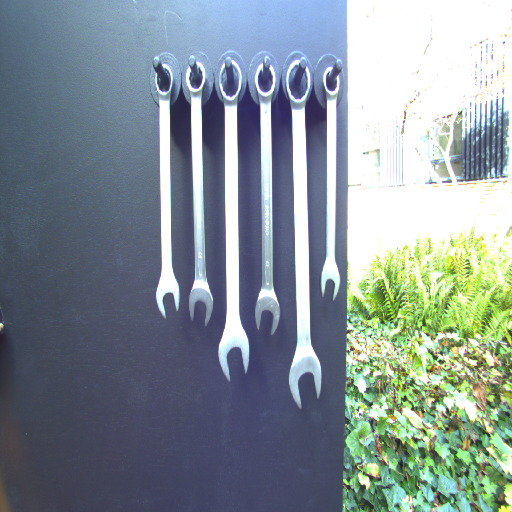bottom: (285, 350, 324, 414), (217, 326, 250, 386), (185, 278, 214, 329), (252, 288, 281, 337), (153, 271, 181, 321), (320, 257, 342, 303)
top: (284, 57, 311, 107), (218, 56, 245, 105), (253, 61, 278, 103), (151, 60, 175, 103), (183, 61, 209, 100), (320, 63, 344, 98)
